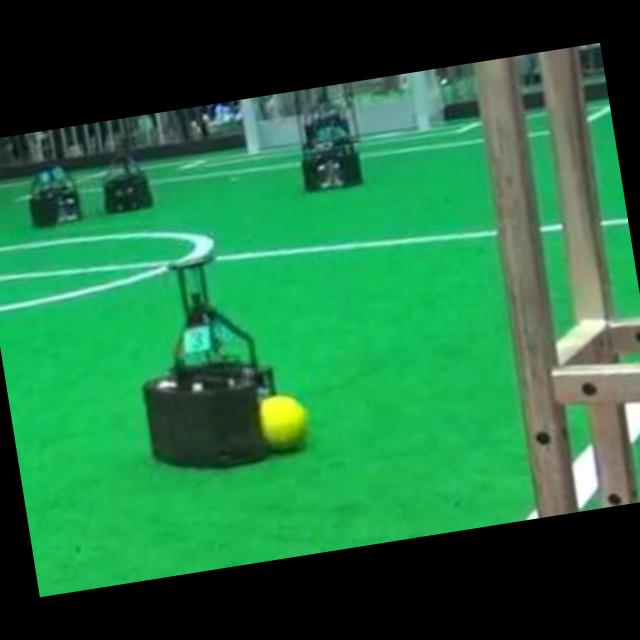ball: (259, 394, 305, 451)
goal: (410, 71, 430, 129), (240, 98, 259, 153)
robot: (143, 265, 276, 468), (297, 84, 362, 190), (105, 143, 152, 211), (29, 165, 79, 226)
